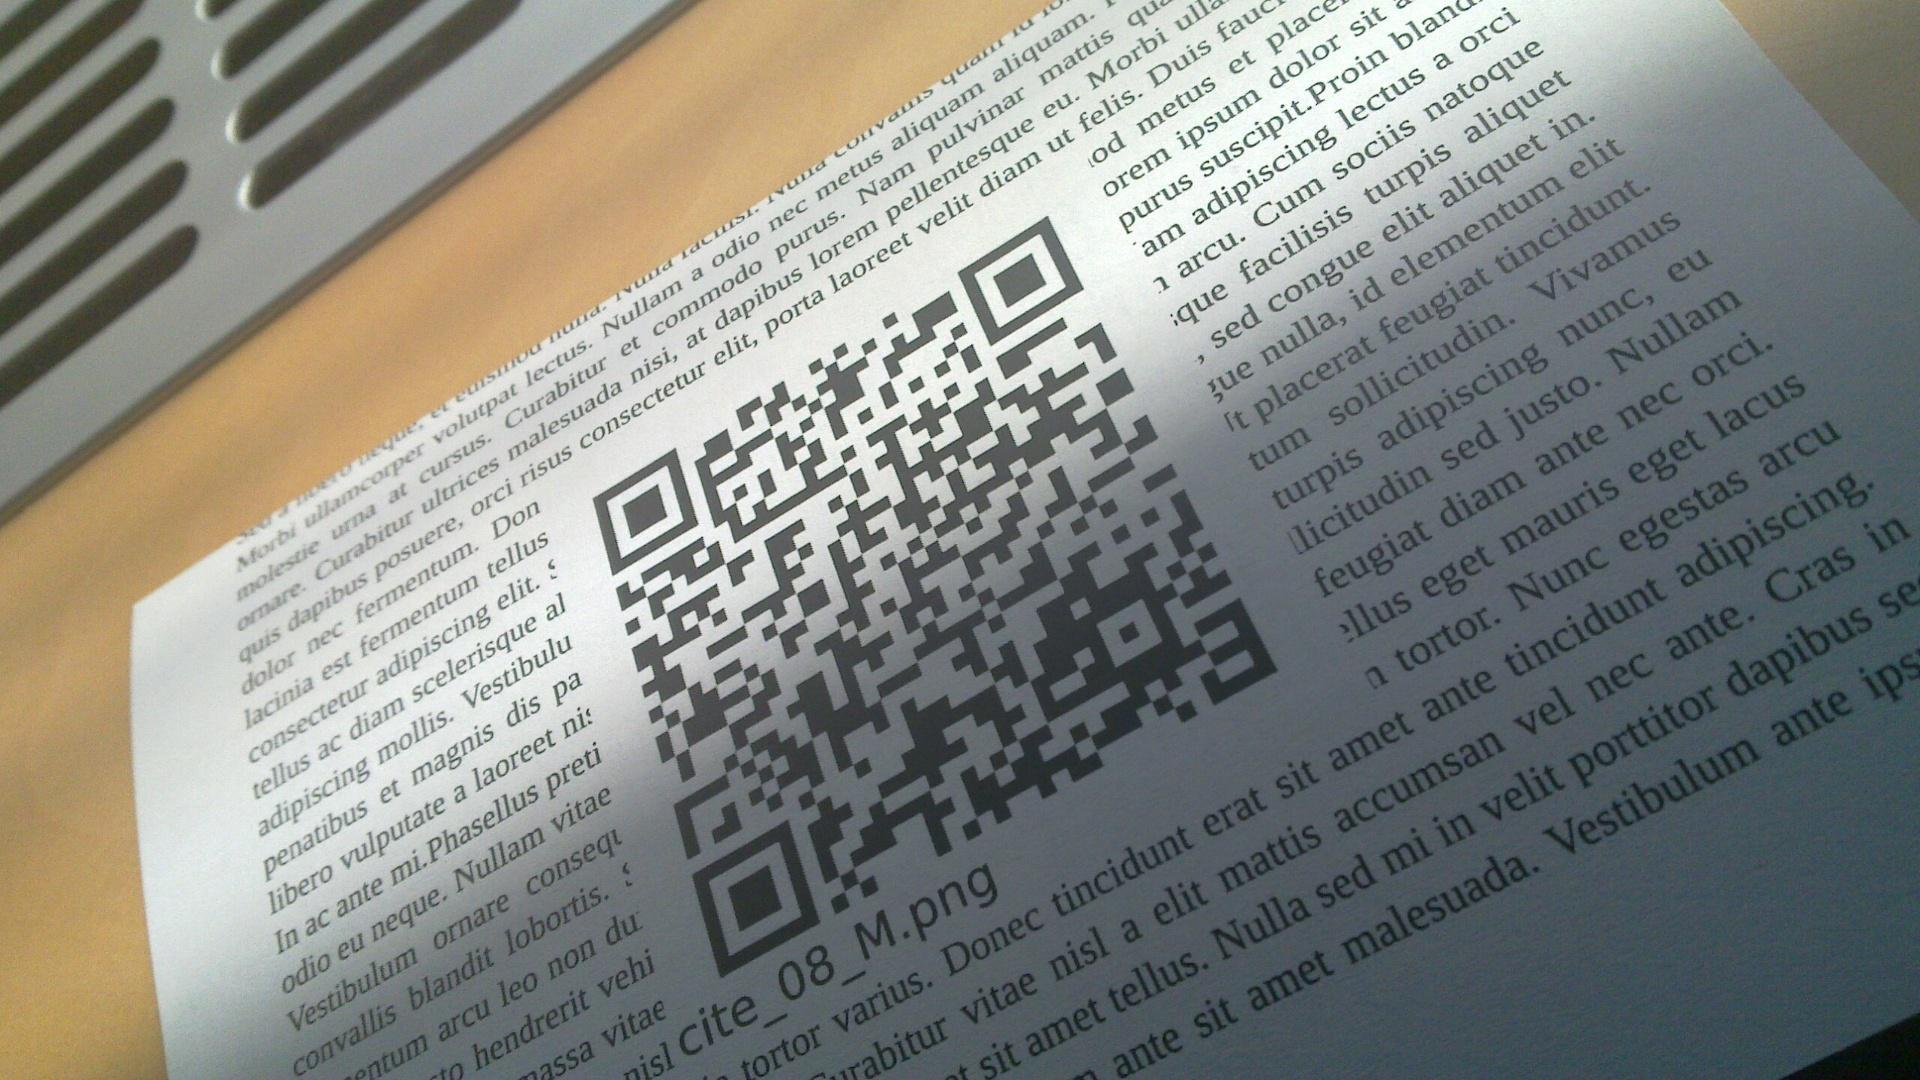Finder pattern: (690, 824, 822, 972), (955, 215, 1083, 342), (583, 456, 696, 574)
